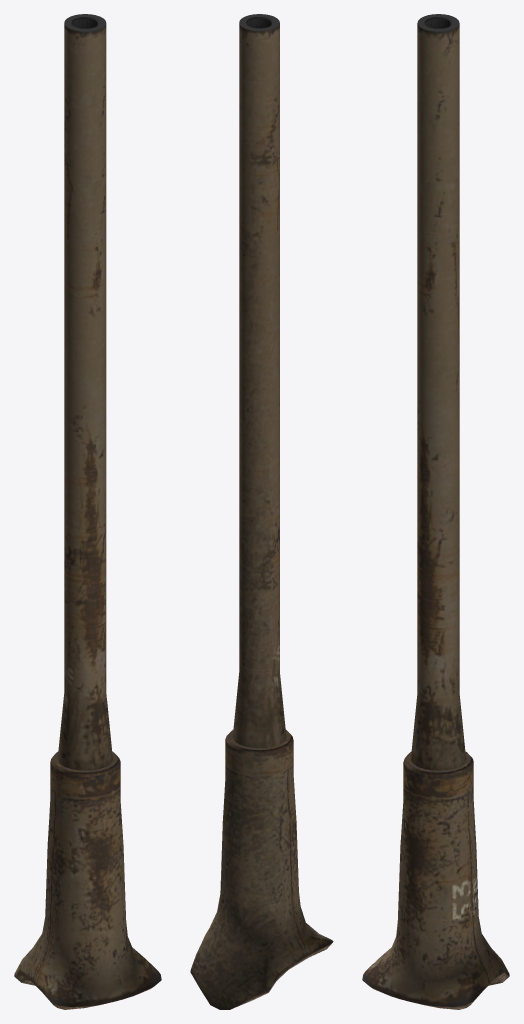
Rendered from Gun_10.glb.
3 renders of one model, left to right at view 1: azimuth 30°, elevation 25°; view 2: azimuth 150°, elevation 25°; view 3: azimuth 330°, elevation 25°, orthographic. The views are drawn at different scales.
Parts seen in each view (by area): view 1: set_0_group_0; view 2: set_0_group_0; view 3: set_0_group_0.
Part boxes in pixels (x1,y1,x2,y2): set_0_group_0: [14, 14, 161, 1009]; set_0_group_0: [190, 14, 333, 1009]; set_0_group_0: [362, 14, 509, 1009].
Bounding box in the file's own units: 0.6214 × 5.34 × 0.6765.
Materials: 1 (1 with a texture image).
